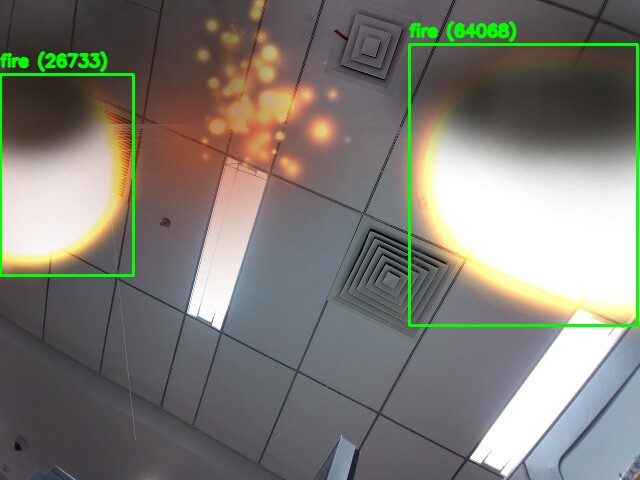fire: (409, 44, 637, 325), (0, 74, 133, 275)
